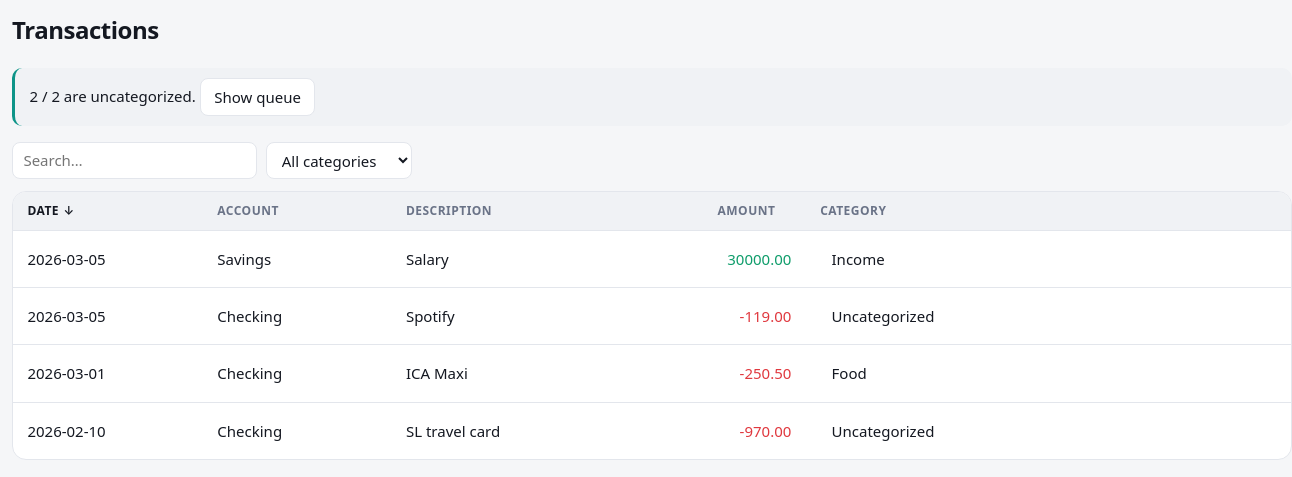
Test case: TransactionTable: uncategorized queue › selects the uncategorized option when the categories list includes it
Click the button "Show queue" at (258, 97), box [200, 78, 315, 116]
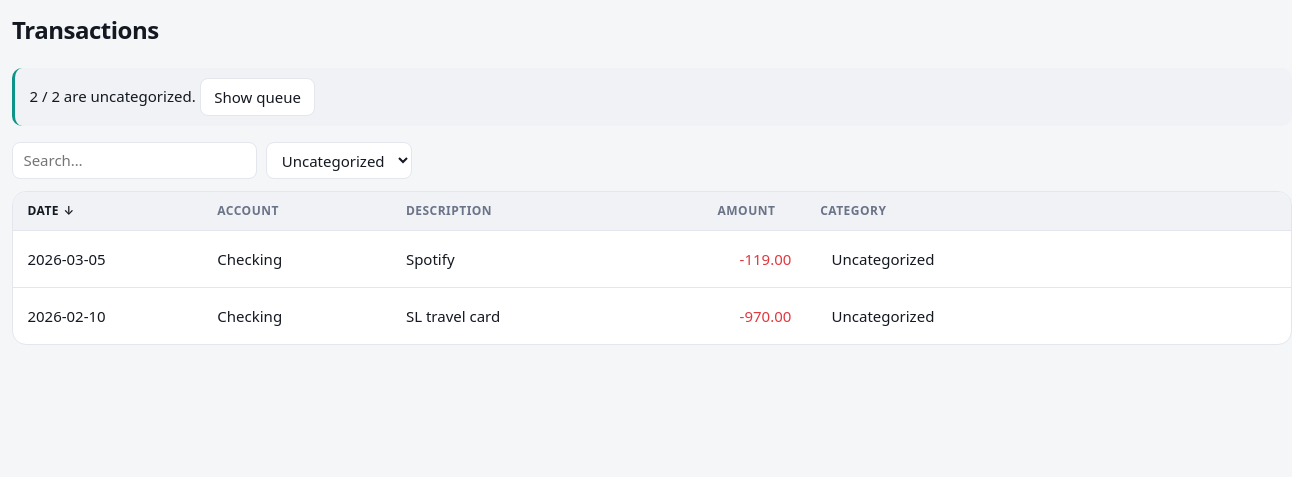
Check: the dropdown shows "Uncategorized", box [266, 142, 412, 179]
